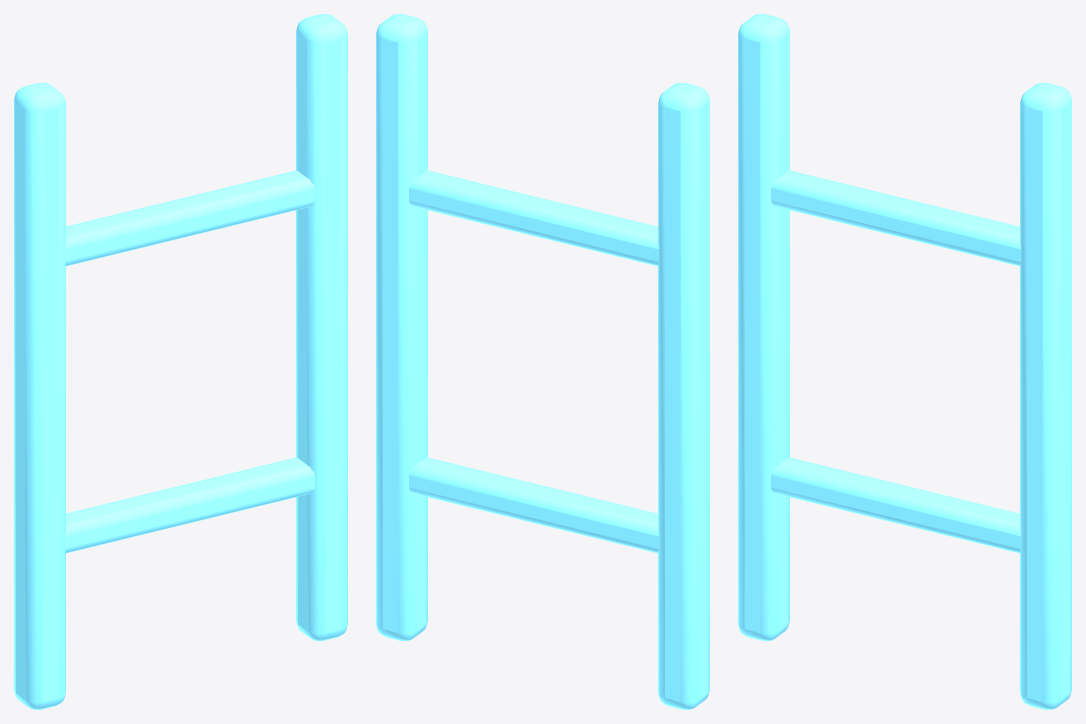
The model's file is zebrik.glb.
The picture shows the model from 3 angles, left to right: view 1: azimuth 30°, elevation 25°; view 2: azimuth 150°, elevation 25°; view 3: azimuth 330°, elevation 25°; orthographic projection.
Visible parts, largest first — view 1: zebrik, zebrik_bok_-1; view 2: zebrik, zebrik_bok_-1; view 3: zebrik, zebrik_bok_-1.
Boxes of the visible parts, x1,y1,x2,y2 form: zebrik: (65,14,347,640); zebrik_bok_-1: (14,83,65,709); zebrik: (376,14,658,640); zebrik_bok_-1: (658,83,709,709); zebrik: (771,83,1071,709); zebrik_bok_-1: (738,14,789,640).
Bounding box in the file's own units: 0.82 × 1.5 × 0.1.
